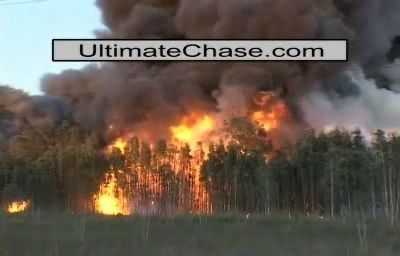fire: (93, 112, 218, 217), (252, 101, 281, 132), (3, 195, 32, 214)
